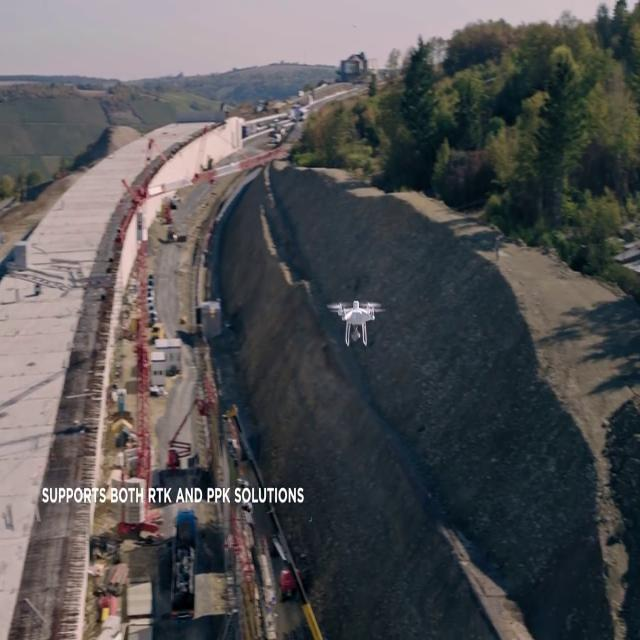drone: (324, 294, 388, 350)
